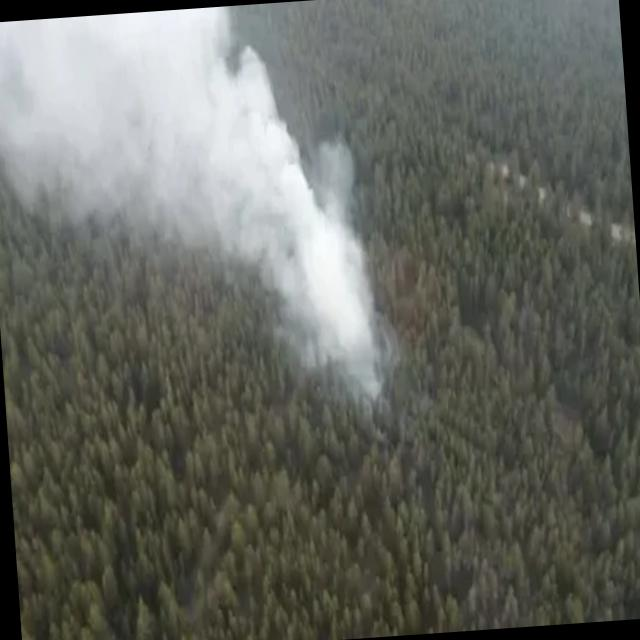Smoke: (0, 0, 407, 419)
